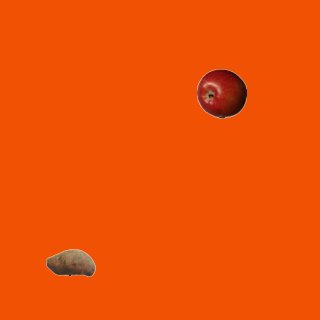Apple Braeburn: (196, 68, 246, 118)
Potato Sweet: (45, 237, 95, 287)
